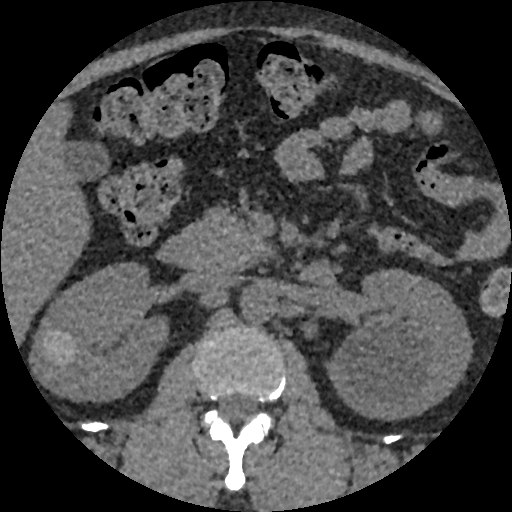Lesion: (36, 329, 78, 369)
